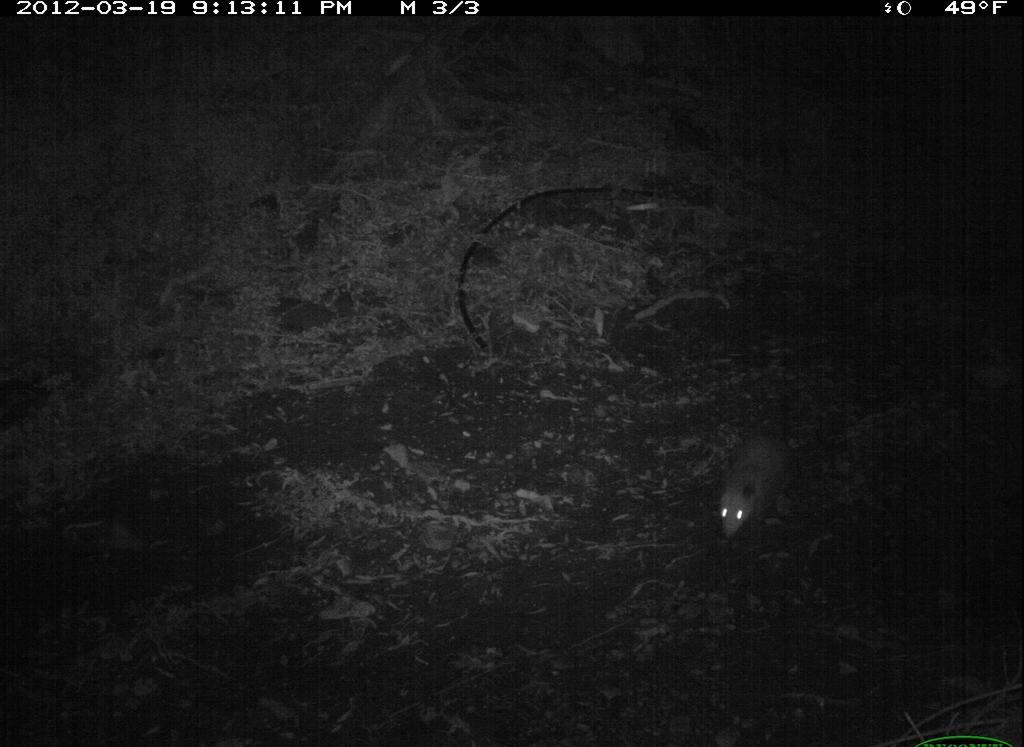opossum: (707, 419, 802, 543)
